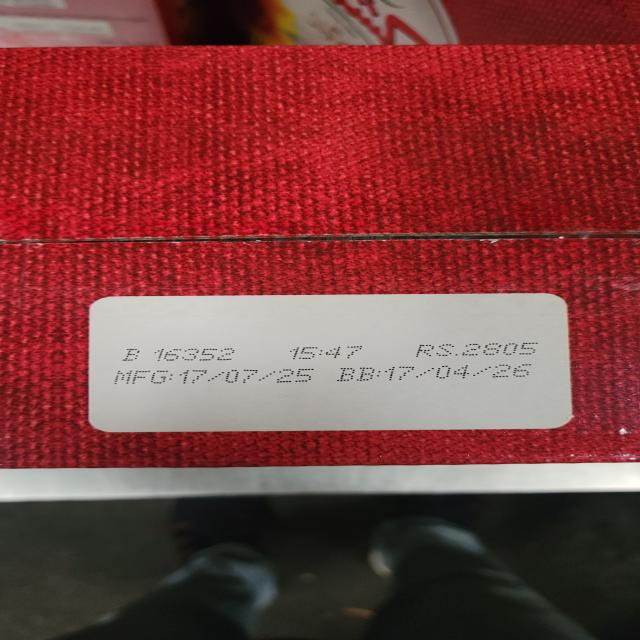BB: (334, 364, 535, 382)
Batch: (118, 348, 235, 361)
MFG: (115, 368, 314, 385)
RS: (415, 342, 544, 357)
TimeStamp: (289, 346, 365, 359)
